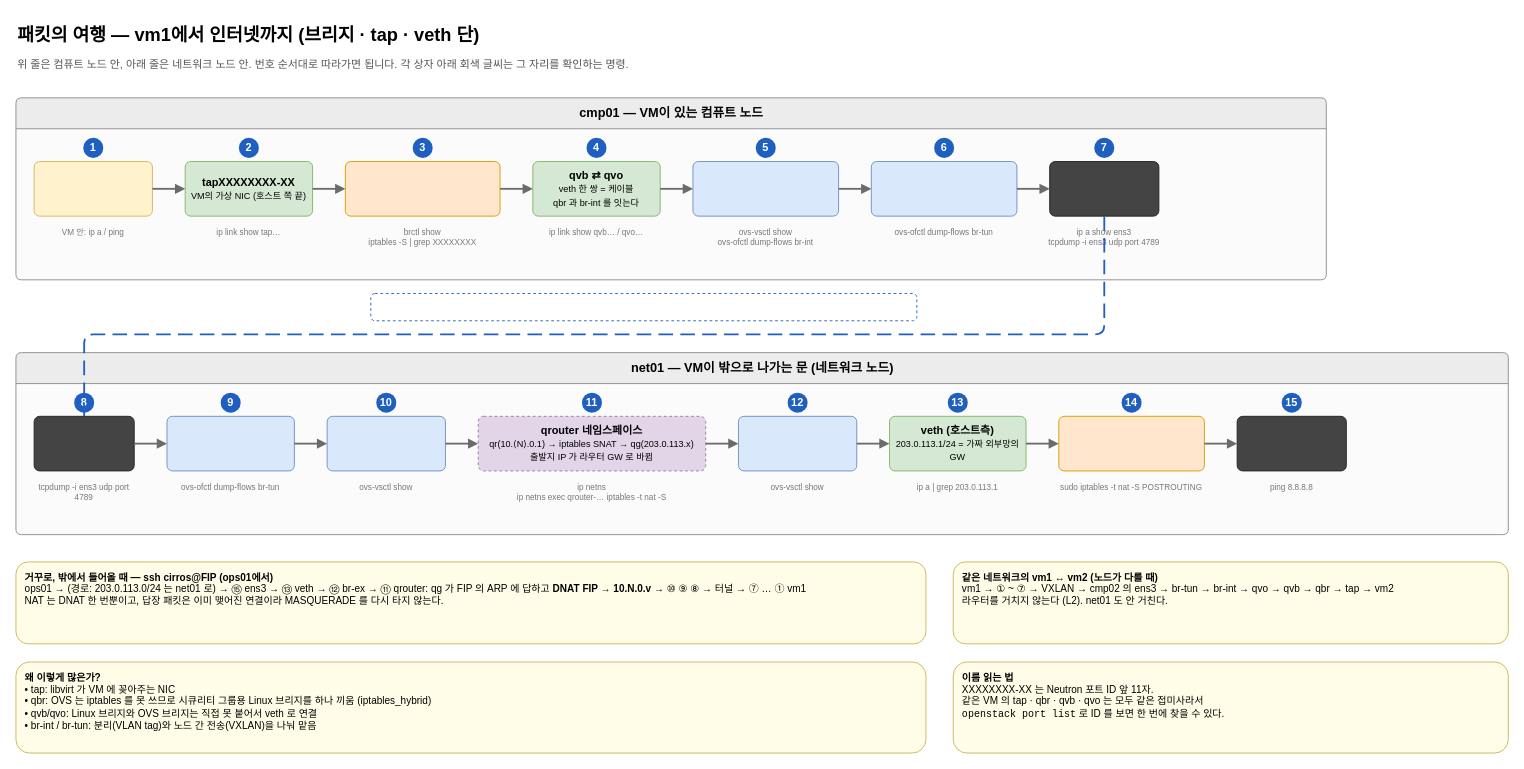
The diagram is 1524 pixels wide and 769 high, and some of its shapes have lost their labels. Here are the shapes that lost their labels. From the top down, the centre of each, then its label:
point 92,188: vm1 (CirrOS) eth0 10.⟨N⟩.0.v
point 422,188: qbrXXXXXXXX-XX Linux 브리지 시큐리티 그룹(iptables)이 여기서 걸러짐
point 765,188: br-int (OVS) 네트워크마다 다른 VLAN tag 를 붙여 분리
point 943,188: br-tun (OVS) VLAN tag → VNI 로 바꾸고 VXLAN 으로 포장
point 1104,188: ens3 cmp01 의 실제 NIC
point 643,307: VXLAN 터널 (UDP 4789) — 가비아 사설망 위로 cmp01 → net01
point 83,443: ens3 net01 의 실제 NIC
point 230,443: br-tun (OVS) VXLAN 을 풀고 VNI → VLAN tag
point 385,443: br-int (OVS) tag 를 보고 qr 포트로 전달
point 797,443: br-ex (OVS) 외부망 브리지. qg 포트가 여기 붙음
point 1131,443: host MASQUERADE 출발지 IP → ens3 IP 로 한 번 더 NAT
point 1291,443: ens3 → 인터넷 가비아 NAT 를 거쳐 밖으로
